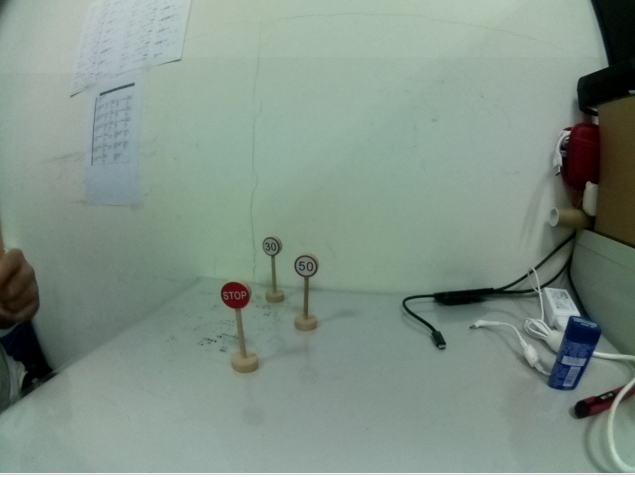Speed30: (261, 234, 283, 257)
Speed50: (292, 253, 319, 279)
Stop: (217, 278, 258, 312)
